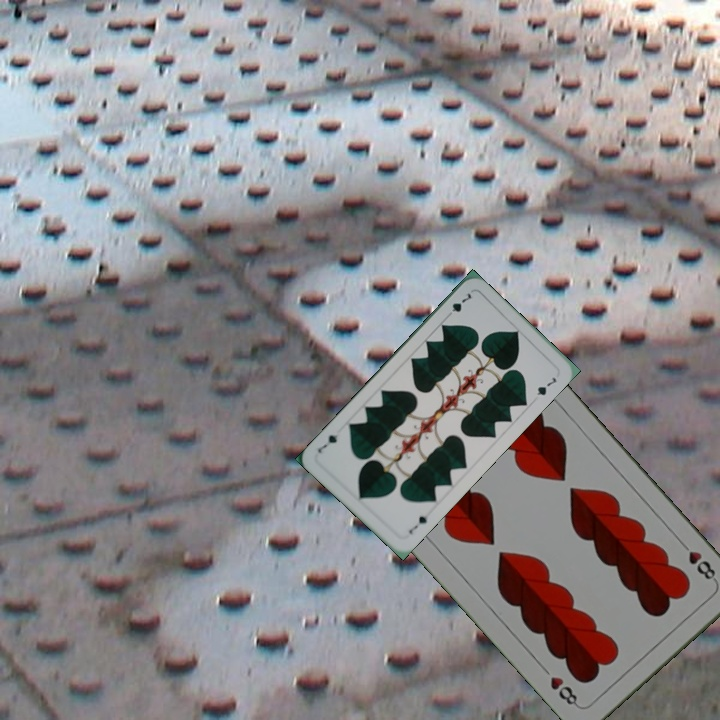G7: (442, 289, 474, 321), (405, 512, 430, 538)
H8: (675, 537, 719, 584)
